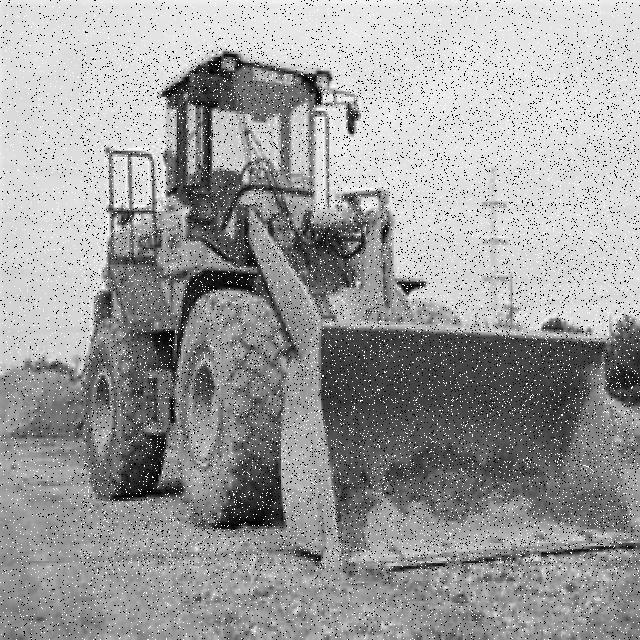Construction Equipment: (81, 43, 638, 574)
